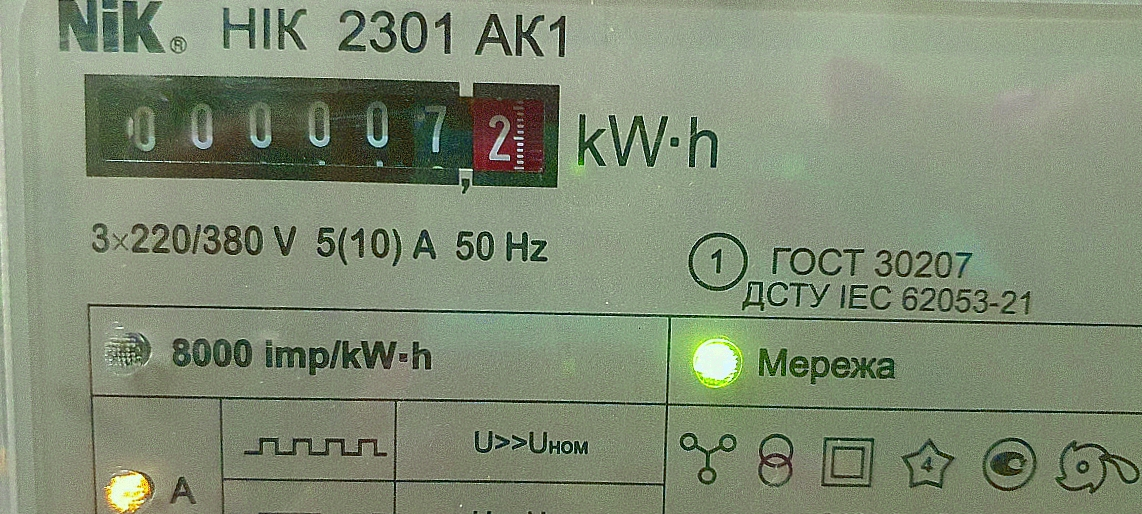0: (184, 98, 220, 151), (360, 97, 394, 151), (303, 95, 335, 149), (128, 101, 161, 153), (245, 97, 277, 150)
2: (484, 112, 515, 163)
7: (419, 100, 450, 155)
screen: (64, 53, 581, 207)
